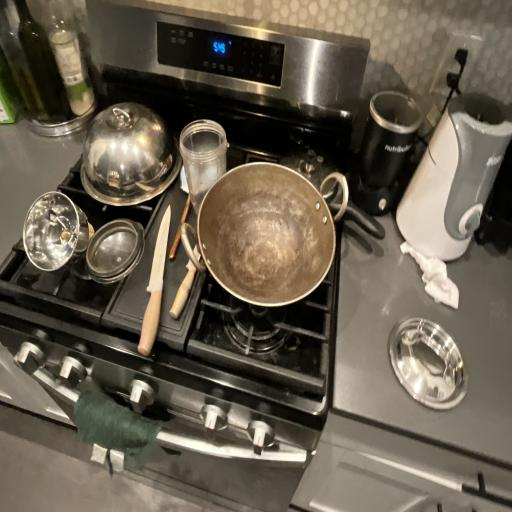Pan: (166, 164, 363, 310)
Stove: (0, 0, 396, 512)
knife: (137, 202, 175, 350), (170, 218, 217, 323)
